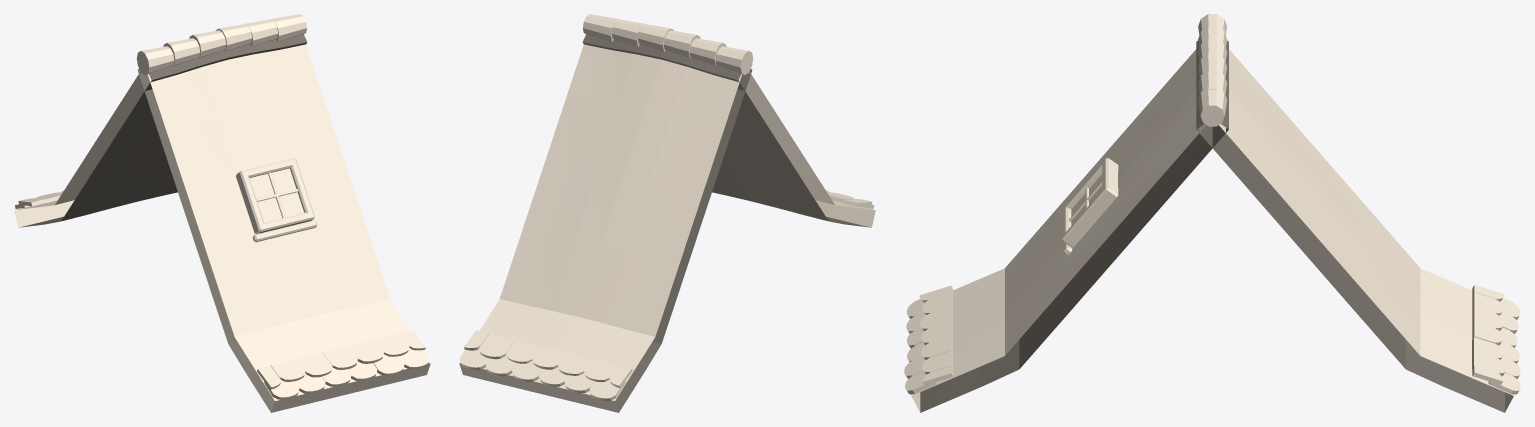
Rendered from SM_VK_Roof_Mid_Skylight.fbx.
The picture shows the model from 3 angles, left to right: view 1: azimuth 30°, elevation 25°; view 2: azimuth 150°, elevation 25°; view 3: azimuth 270°, elevation 25°; orthographic projection. The views are drawn at different scales.
Parts seen in each view (by area): view 1: SM_VK_Roof_Mid_Skylight.001; view 2: SM_VK_Roof_Mid_Skylight.001; view 3: SM_VK_Roof_Mid_Skylight.001.
Part boxes in pixels (x1,y1,x2,y2): SM_VK_Roof_Mid_Skylight.001: [14, 14, 430, 412]; SM_VK_Roof_Mid_Skylight.001: [459, 14, 875, 412]; SM_VK_Roof_Mid_Skylight.001: [904, 14, 1520, 412].
Bounding box in the file's own units: 3.06 × 5 × 8.9.
